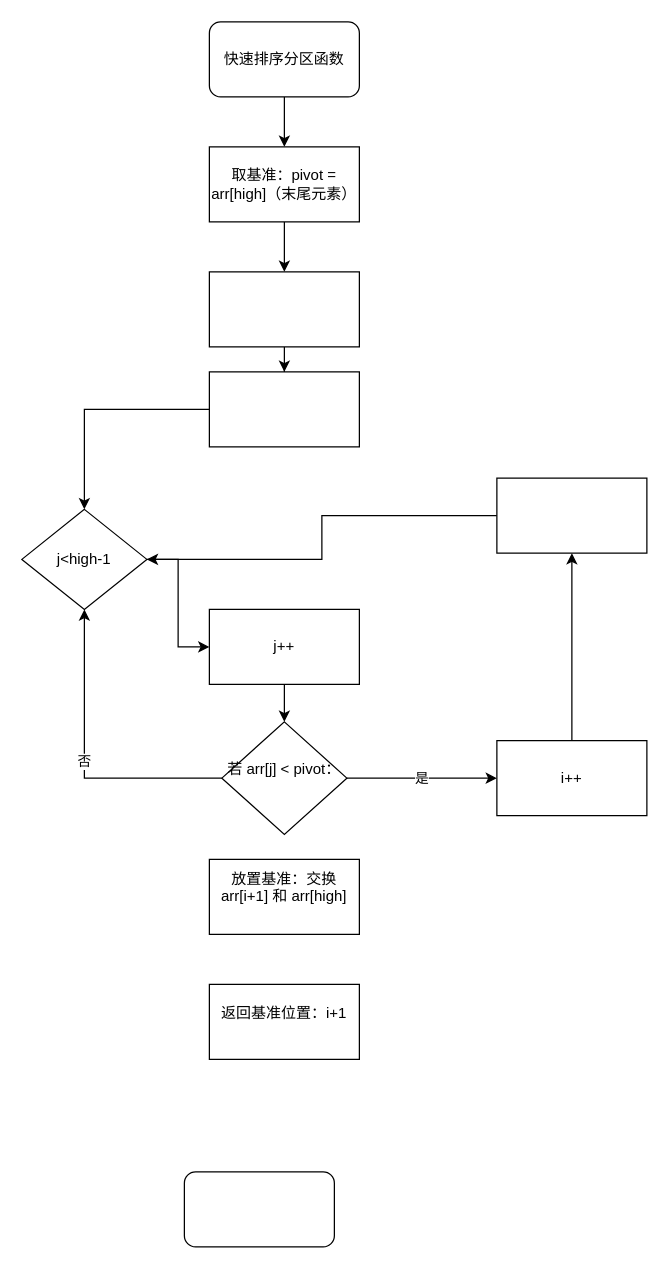
This 669x1269 diagram has some shape labels left out. The shapes that lost their labels are listed below. From the top down, each one's centre as x and y in pixels, then its label:
At [283,309]: "初始化指针：i = low - 1（指向小于基准的边界）".
At [283,409]: "遍历：j 从 low 到 high-1".
At [571,515]: "交换 arr[i] 和 arr[j]".
At [258,1209]: "结束".
